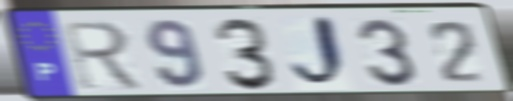2: (428, 19, 487, 84)
3: (213, 16, 279, 93), (353, 16, 421, 88)
9: (142, 17, 207, 93)
J: (288, 13, 354, 93)
R: (59, 20, 149, 93)
